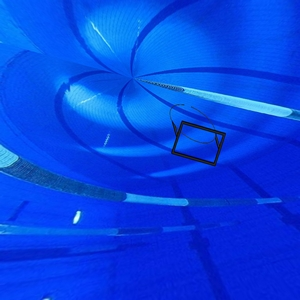circle: (168, 99, 229, 169)
